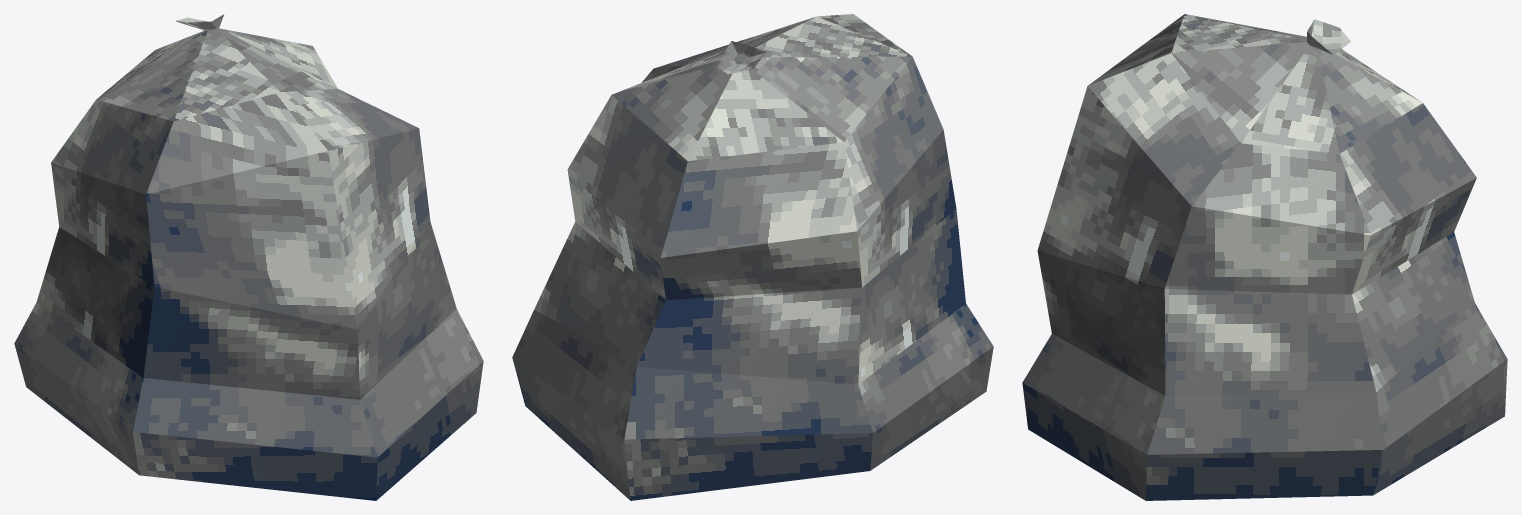
File: trashbag_1_white.glb
3 views of the same model, side by side, from view 1: azimuth 30°, elevation 25°; view 2: azimuth 150°, elevation 25°; view 3: azimuth 270°, elevation 25° (orthographic). The views are drawn at different scales.
Parts seen in each view (by area): view 1: trashbag_1_white; view 2: trashbag_1_white; view 3: trashbag_1_white.
Boxes of the visible parts, bbox=[...] form: trashbag_1_white: bbox=[14, 14, 483, 500]; trashbag_1_white: bbox=[512, 14, 993, 500]; trashbag_1_white: bbox=[1022, 14, 1507, 500].
Bounding box in the file's own units: 0.7709 × 0.8094 × 0.9171.
Materials: 1 (1 with a texture image).
